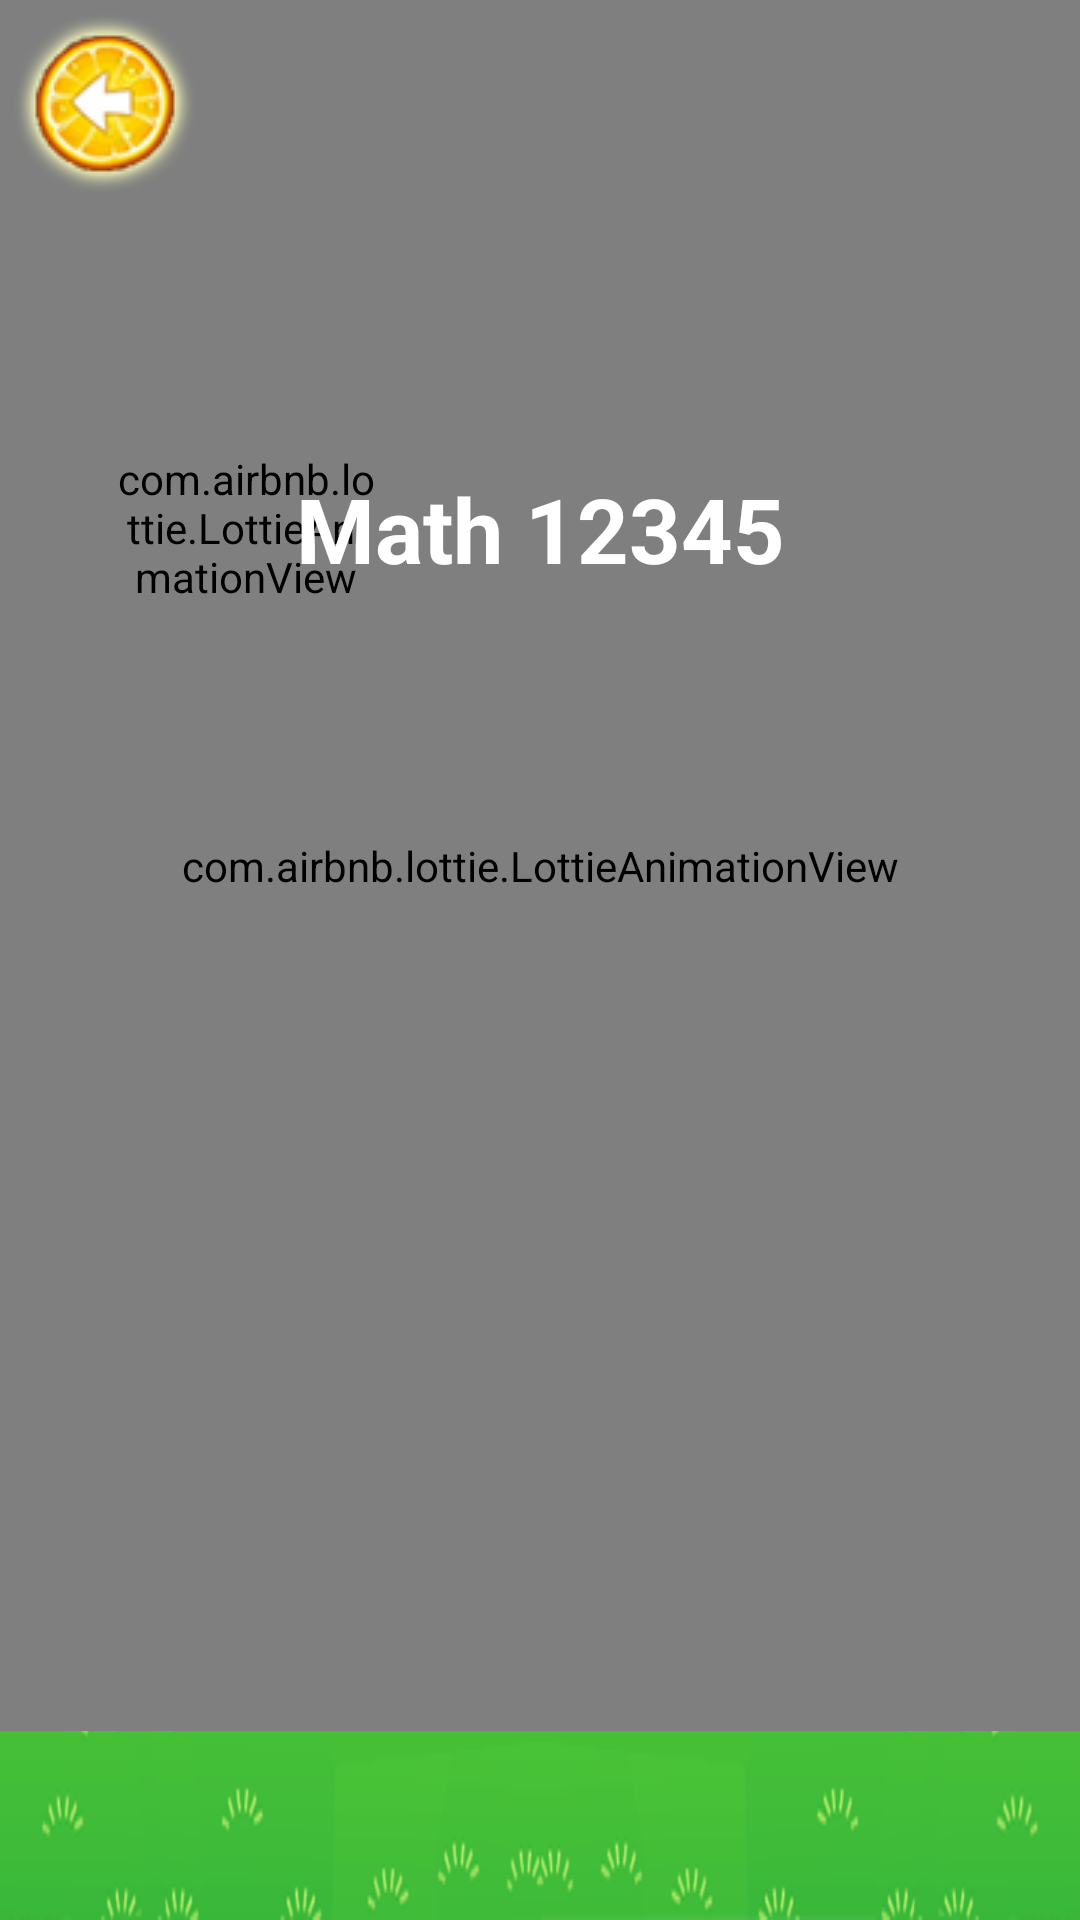

Where icons sit on this 1080×1920 app screen, as box=[x1, y1, x2, y2]:
back: box=[23, 23, 187, 184]
